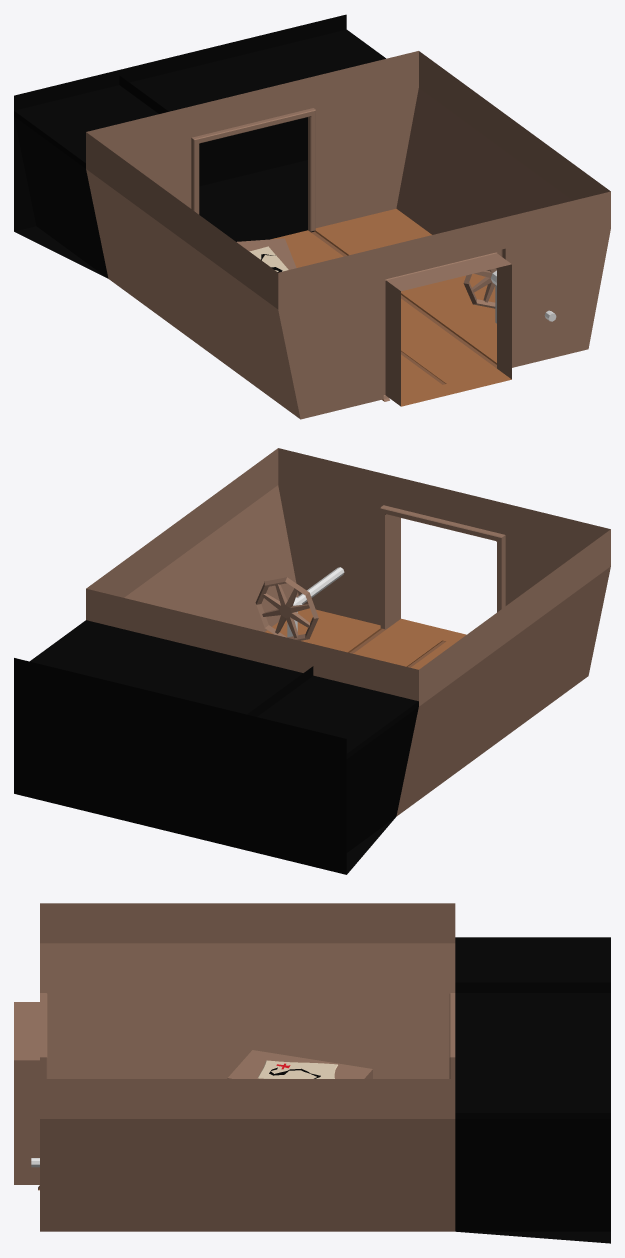
File: room_navigation.glb
The picture shows the model from 3 angles, top to bottom: view 1: azimuth 30°, elevation 25°; view 2: azimuth 150°, elevation 25°; view 3: azimuth 270°, elevation 25°; orthographic projection. The views are drawn at different scales.
Parts seen in each view (by area): view 1: Room; view 2: Room; view 3: Room.
Part boxes in pixels (bbox=[...]): Room: bbox=[14, 14, 610, 419]; Room: bbox=[14, 448, 610, 874]; Room: bbox=[14, 903, 610, 1243].
Bounding box in the file's own units: 8 × 3.86 × 11.5.
